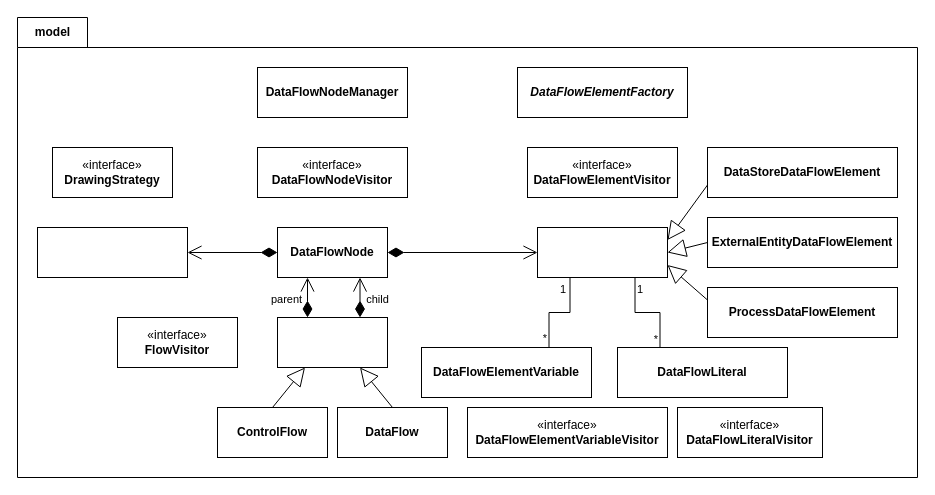
Image size: 935x495. Some labels were removed from this diagram. Here are the shapes that lost their labels. From the top down, the centre of each, then its label:
the point at 112,252: OriginalSourceElement
the point at 602,252: DataFlowElement
the point at 332,342: Flow
